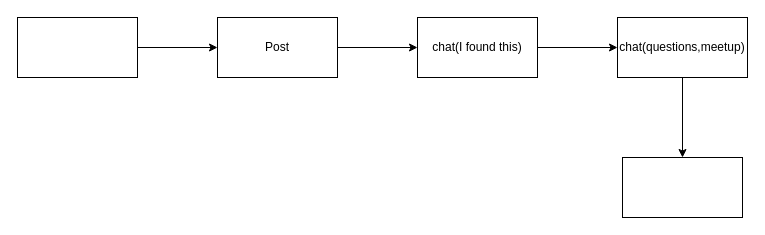
Image size: 765x235. Some labels were removed from this diagram. The shapes that lost their labels are listed below. From the top down, each one's centre as x and y in pixels, then its label:
At (x=77, y=47): "Lost item".
At (x=682, y=187): "handle item".
